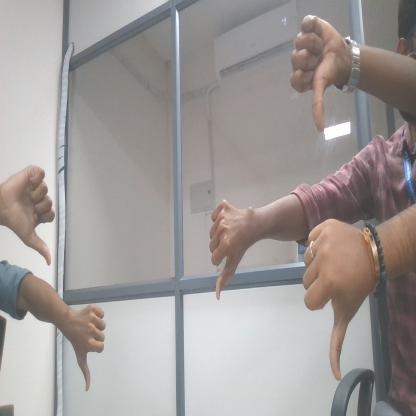Thumbs Down: (299, 215, 369, 396), (280, 8, 360, 139), (201, 172, 255, 319), (6, 149, 65, 272), (59, 289, 112, 400)
